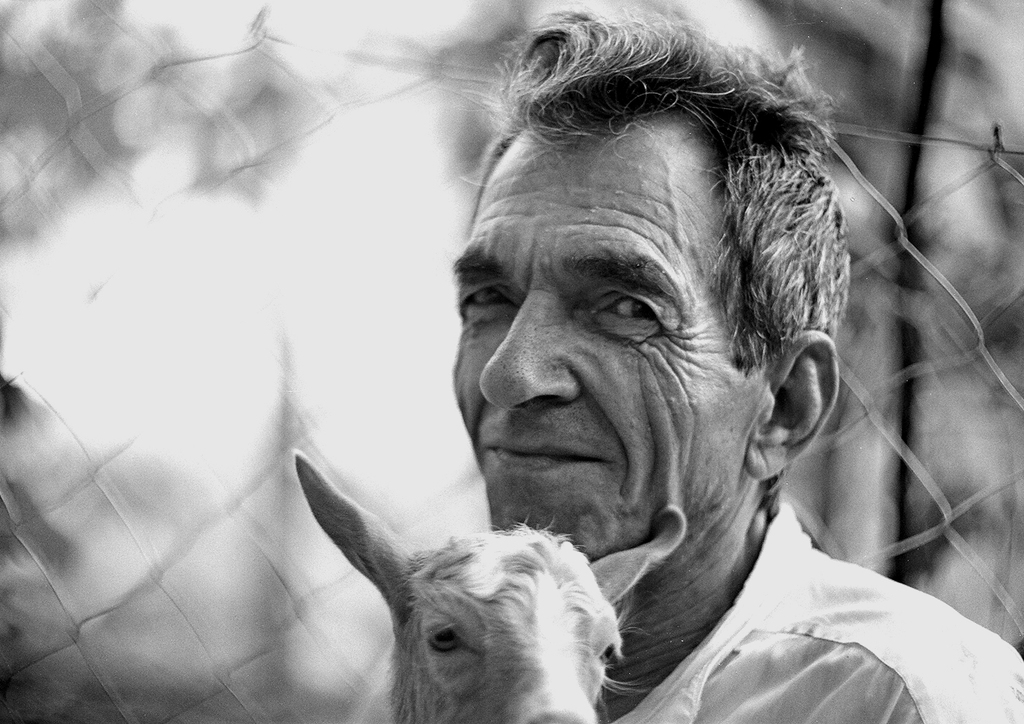Animal: (293, 448, 687, 723)
